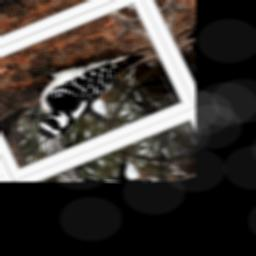Woodpecker: (11, 27, 168, 145)
